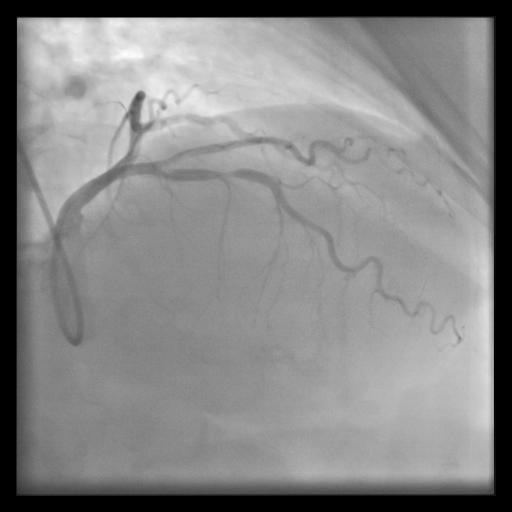Stenosis: (219, 166, 235, 181)
